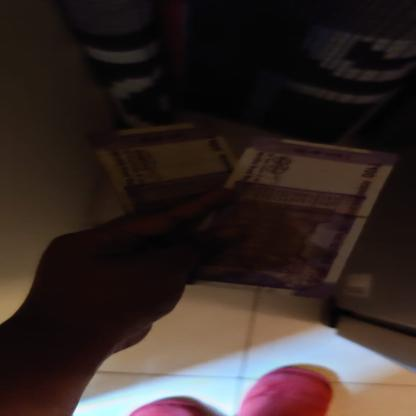New100Back: (186, 133, 400, 301), (86, 120, 238, 232)
